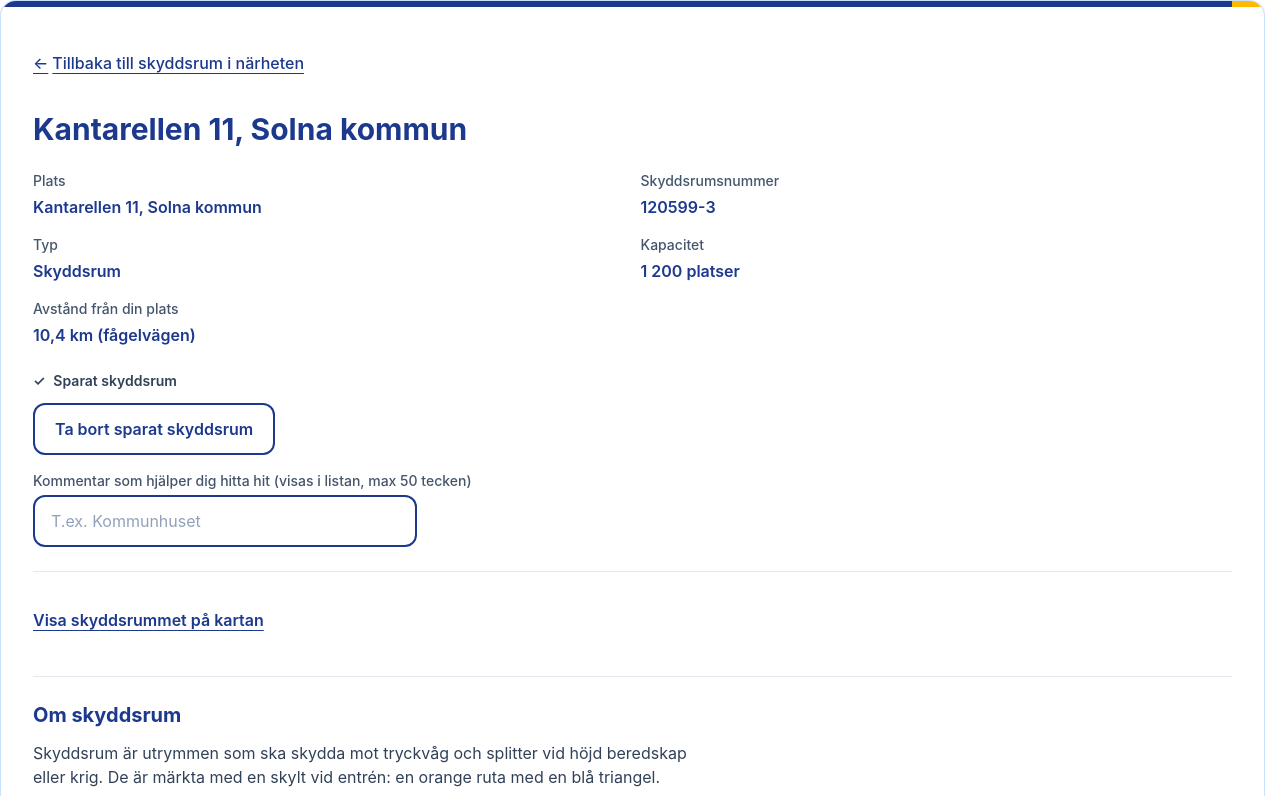
Scenario: ShelterDetailPage comment › shows a confirmation after a successful save, and clears it while editing again
expect the text "Kommentar sparad." is not shown: met
Type "Kommunhuset" into the field labelled "Kommentar". click: (225, 521)
box: [33,495,417,547]
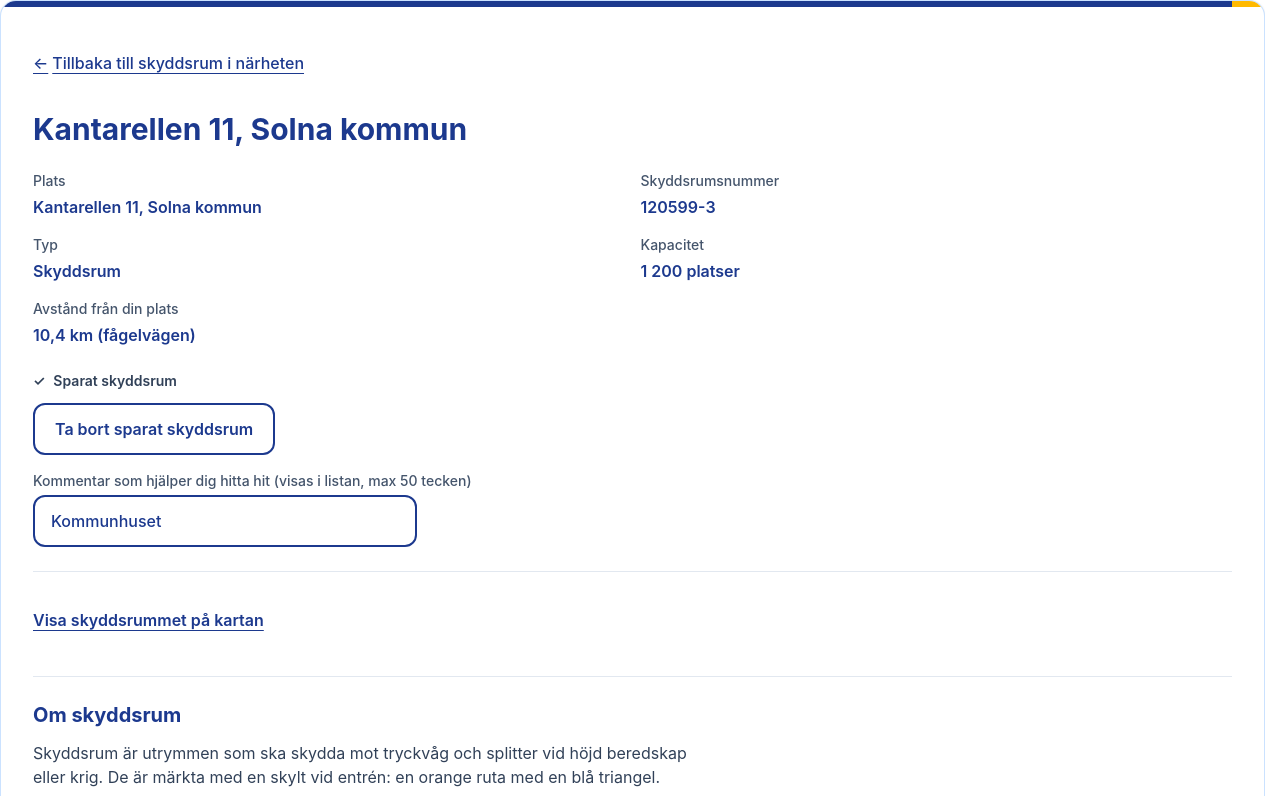
Leave the field labelled "Kommentar", box [33,495,417,547]
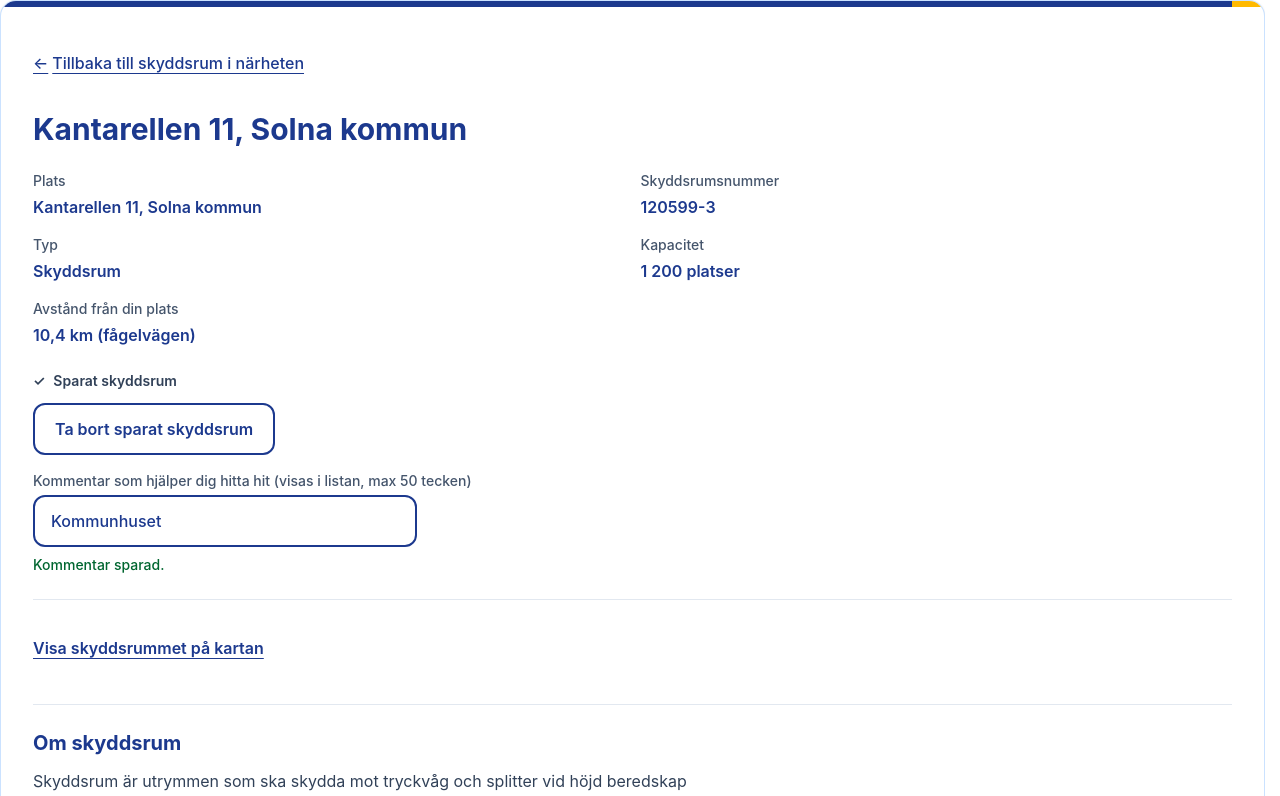
expect the text "Kommentar sparad." is shown: met, box [33,556,164,573]
Replace the text in the field labelled "Kommentar" with "Kommunhuset, källaren". click: (225, 521)
box: [33,495,417,547]
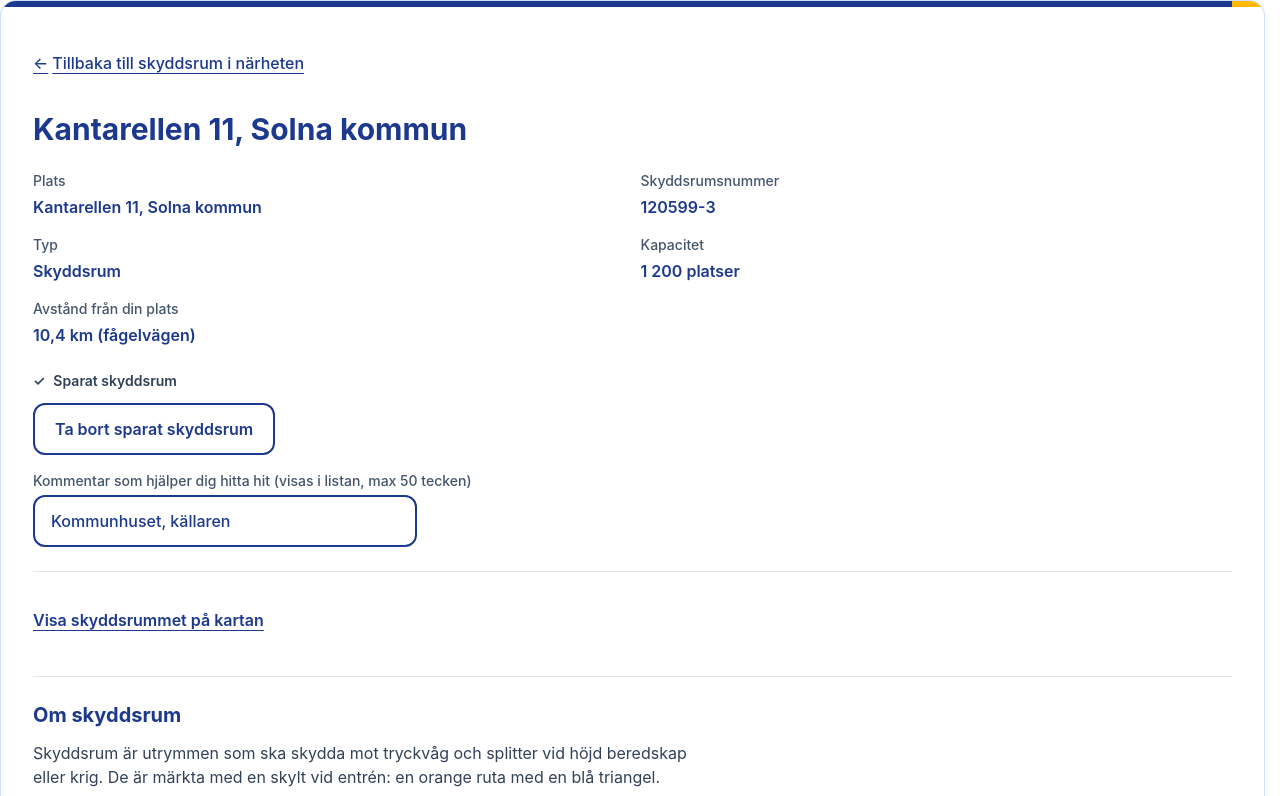
expect the text "Kommentar sparad." is gone: met
